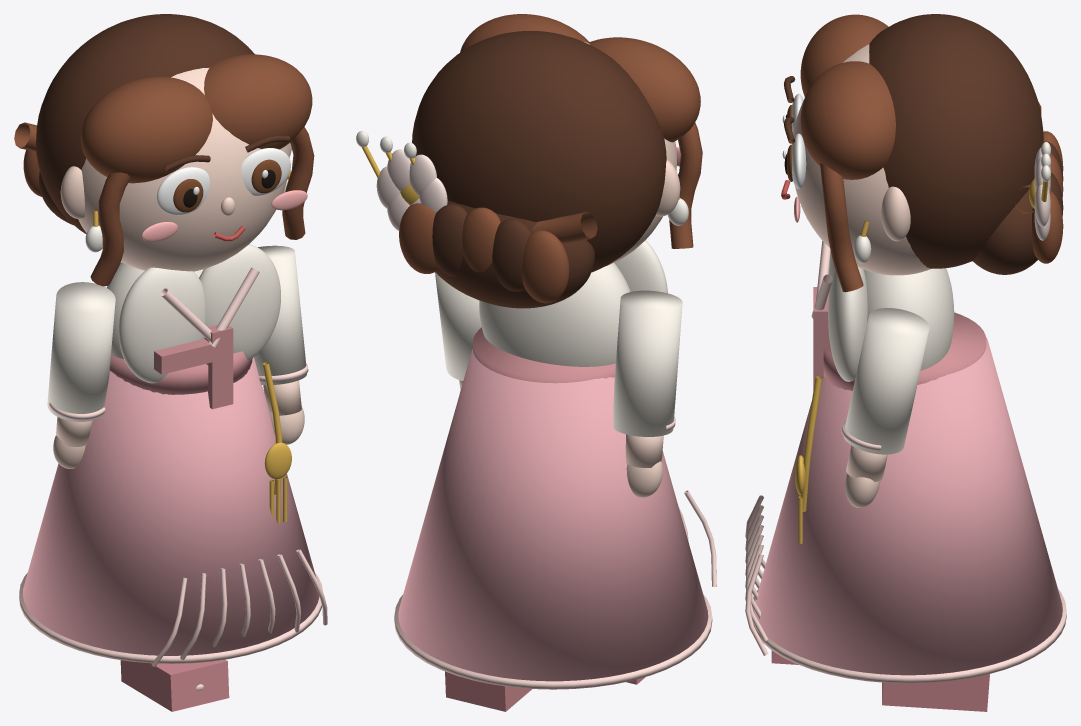
Rendered from guest-02-master.glb.
3 views of the same model, side by side, from view 1: azimuth 30°, elevation 25°; view 2: azimuth 150°, elevation 25°; view 3: azimuth 270°, elevation 25° (orthographic). The views are drawn at different scales.
Parts seen in each view (by area): view 1: Chima, Hair back, Head, Hair left crown, Hair right crown, Wide sleeve -1, Left jeogori panel, Right jeogori panel, Flower shoe -1, Wide sleeve 1, Chima hem, Face curl -1 (+23 smaller); view 2: Chima, Hair back, Torso, Wide sleeve -1, Hair left crown, Low bun, Chima hem, Wide sleeve 1, High waist, Bun braid 1, Bun braid 5, Face curl -1 (+16 smaller); view 3: Chima, Hair back, Hair right crown, Wide sleeve 1, Head, Torso, Right jeogori panel, Hair left crown, Chima hem, Flower shoe 1, Low bun, Face curl 1 (+9 smaller).
Boxes of the visible parts, x1=… form: Chima: x1=23, y1=357, x2=319, y2=655; Hair back: x1=36, y1=14, x2=254, y2=233; Head: x1=78, y1=68, x2=289, y2=271; Hair left crown: x1=80, y1=76, x2=212, y2=183; Hair right crown: x1=204, y1=54, x2=312, y2=149; Wide sleeve -1: x1=47, y1=282, x2=115, y2=421; Left jeogori panel: x1=118, y1=267, x2=205, y2=383; Right jeogori panel: x1=199, y1=244, x2=280, y2=360; Flower shoe -1: x1=120, y1=659, x2=229, y2=711; Wide sleeve 1: x1=254, y1=245, x2=306, y2=385; Chima hem: x1=19, y1=573, x2=323, y2=663; Face curl -1: x1=90, y1=172, x2=130, y2=286; Chima: x1=398, y1=349, x2=708, y2=681; Hair back: x1=412, y1=31, x2=666, y2=272; Torso: x1=479, y1=263, x2=630, y2=366; Wide sleeve -1: x1=613, y1=290, x2=682, y2=436; Hair left crown: x1=588, y1=37, x2=700, y2=142; Low bun: x1=435, y1=201, x2=594, y2=308; Chima hem: x1=394, y1=594, x2=712, y2=689; Wide sleeve 1: x1=435, y1=272, x2=481, y2=380; High waist: x1=472, y1=327, x2=615, y2=383; Bun braid 1: x1=522, y1=230, x2=569, y2=303; Bun braid 5: x1=399, y1=203, x2=439, y2=273; Face curl -1: x1=669, y1=122, x2=702, y2=248; Chima: x1=754, y1=337, x2=1062, y2=675; Hair back: x1=869, y1=14, x2=1043, y2=268; Hair right crown: x1=800, y1=61, x2=895, y2=179; Wide sleeve 1: x1=844, y1=308, x2=929, y2=454; Head: x1=792, y1=44, x2=931, y2=275; Torso: x1=863, y1=268, x2=954, y2=370; Right jeogori panel: x1=828, y1=267, x2=867, y2=381; Hair left crown: x1=800, y1=14, x2=888, y2=96; Chima hem: x1=752, y1=589, x2=1066, y2=683; Flower shoe 1: x1=882, y1=674, x2=989, y2=711; Low bun: x1=973, y1=189, x2=1037, y2=274; Face curl 1: x1=820, y1=163, x2=863, y2=292.
Bounding box in the file's own units: 1.38 × 3.14 × 1.4.
